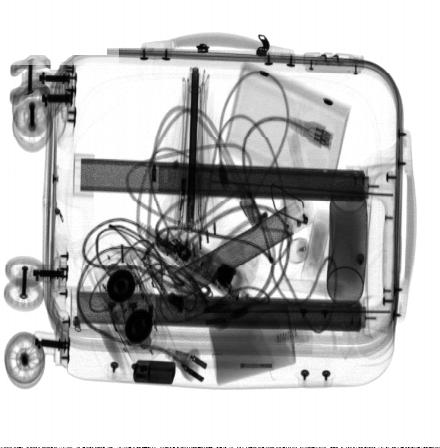Lighter: (133, 360, 176, 384)
